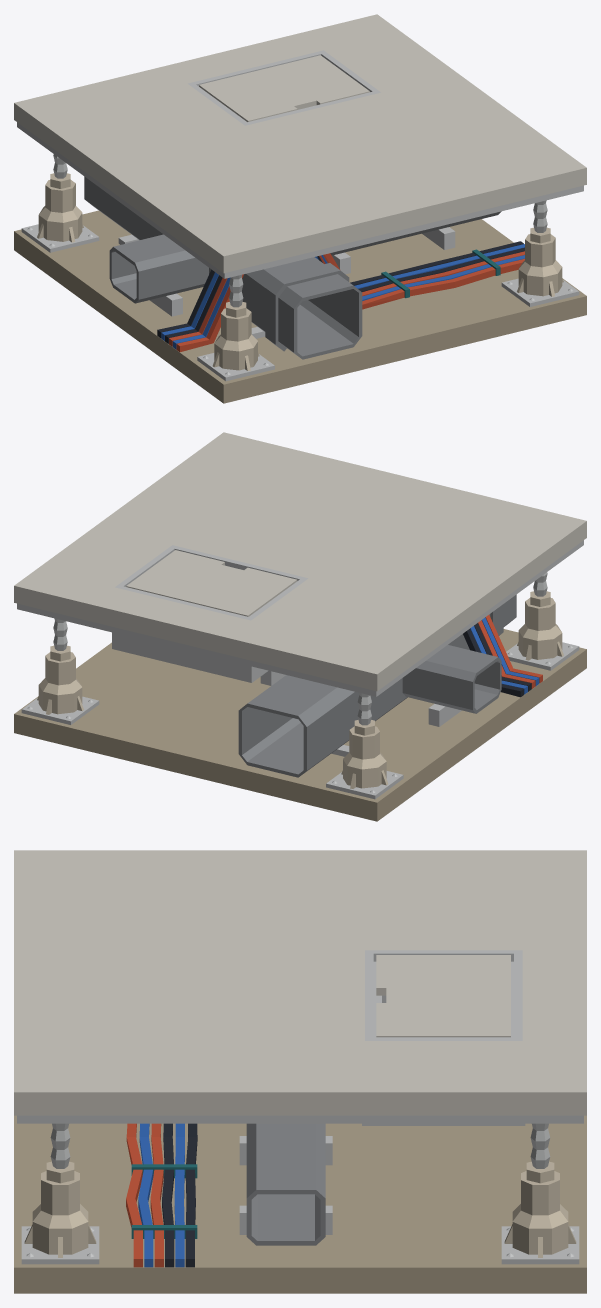
File: raised-access-floor-tile-5b3174.glb
3 renders of one model, top to bottom at view 1: azimuth 30°, elevation 25°; view 2: azimuth 150°, elevation 25°; view 3: azimuth 270°, elevation 25°, orthographic. The views are drawn at different scales.
Visible parts, largest first — view 1: panel-slab, substructure, lid-leaf; view 2: panel-slab, substructure, lid-leaf; view 3: panel-slab, substructure, lid-leaf.
Part boxes in pixels (bbox=[...]): panel-slab: bbox=[14, 14, 586, 278]; substructure: bbox=[14, 154, 586, 403]; lid-leaf: bbox=[199, 55, 369, 121]; panel-slab: bbox=[14, 432, 586, 696]; substructure: bbox=[14, 572, 586, 821]; lid-leaf: bbox=[126, 550, 297, 616]; panel-slab: bbox=[14, 850, 586, 1125]; substructure: bbox=[14, 1115, 586, 1293]; lid-leaf: bbox=[376, 955, 510, 1037].
Size of the model in its own units: 0.8 by 0.31 by 0.8.
